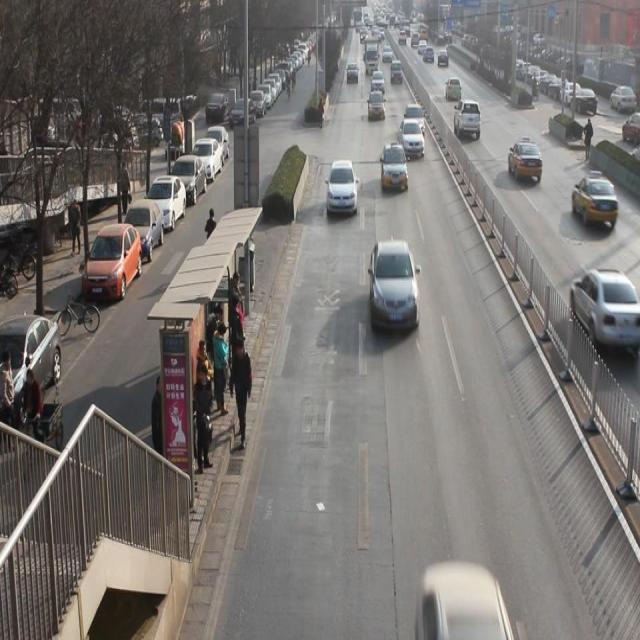car: (570, 267, 640, 353), (367, 238, 422, 334), (572, 171, 620, 228), (324, 160, 358, 210), (509, 136, 543, 184), (380, 143, 409, 190), (454, 98, 482, 140), (398, 120, 423, 160), (403, 102, 427, 139), (366, 91, 387, 119), (444, 78, 462, 101)
